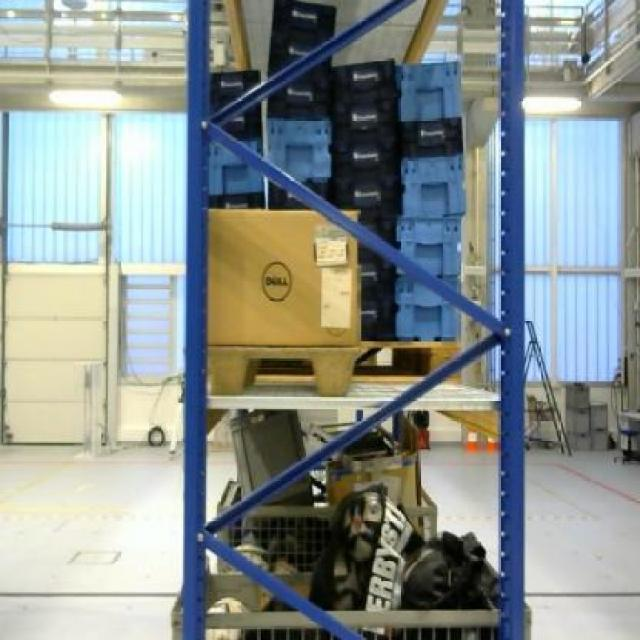box: (208, 209, 359, 345)
